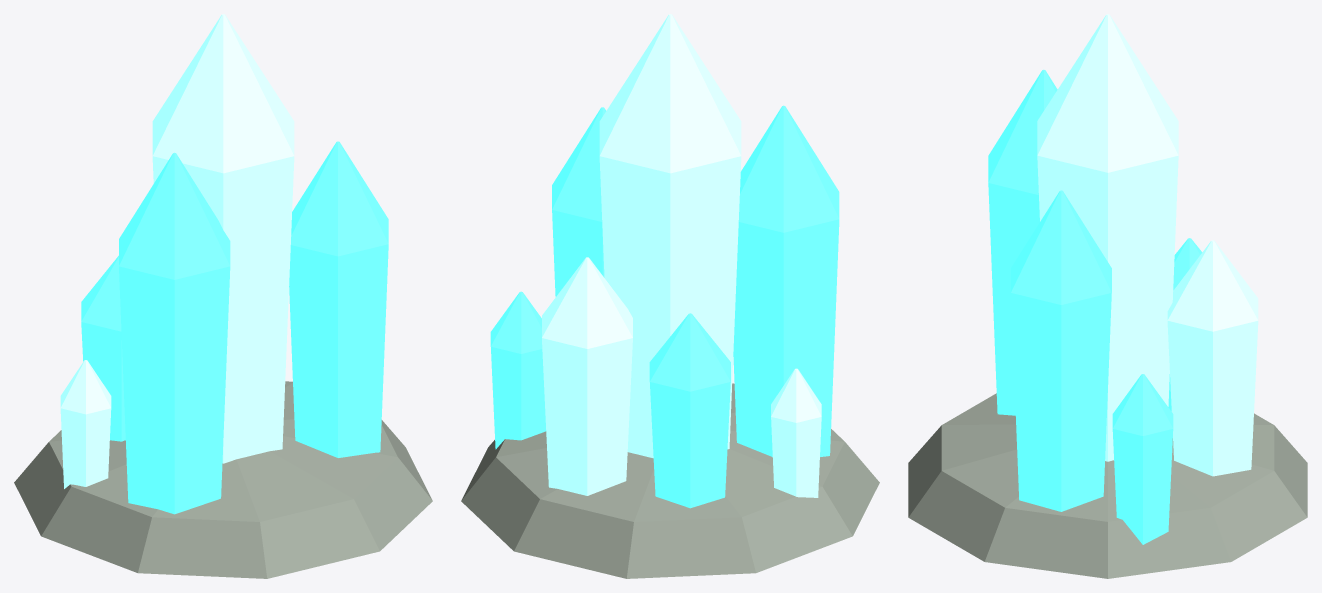
File: crystal_spire.glb
3 views of the same model, side by side, from view 1: azimuth 30°, elevation 25°; view 2: azimuth 150°, elevation 25°; view 3: azimuth 270°, elevation 25° (orthographic).
Visible parts, largest first — view 1: LOD0; view 2: LOD0; view 3: LOD0.
Part boxes in pixels (x1,y1,x2,y2): LOD0: (14, 14, 432, 578); LOD0: (461, 14, 879, 578); LOD0: (908, 14, 1307, 578).
Size of what is drawn, in the model's own units: 7.2 by 9 by 6.85.
